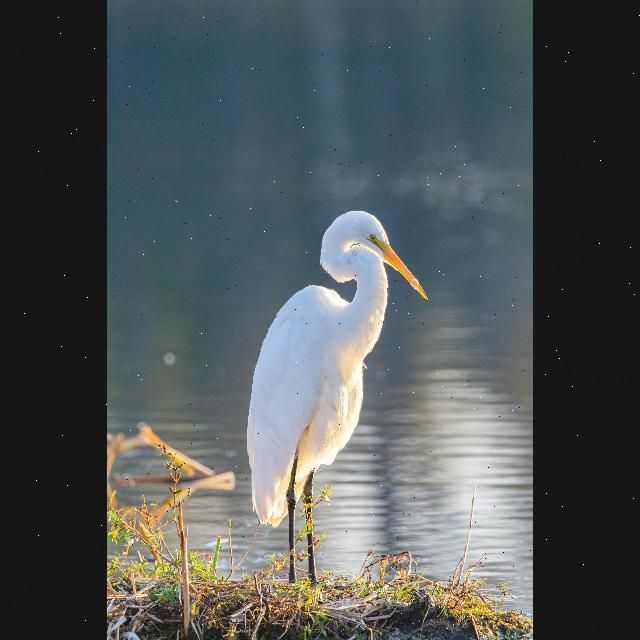egret: (233, 200, 439, 576)
